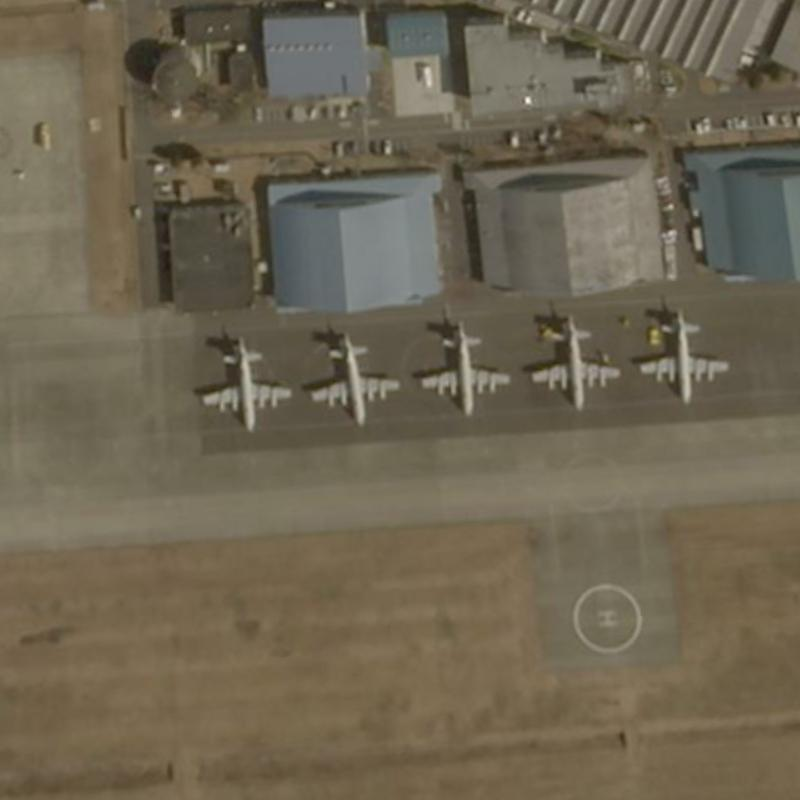A9: (196, 328, 297, 436), (412, 310, 513, 417), (302, 327, 403, 429), (633, 300, 736, 400), (526, 307, 625, 410)
